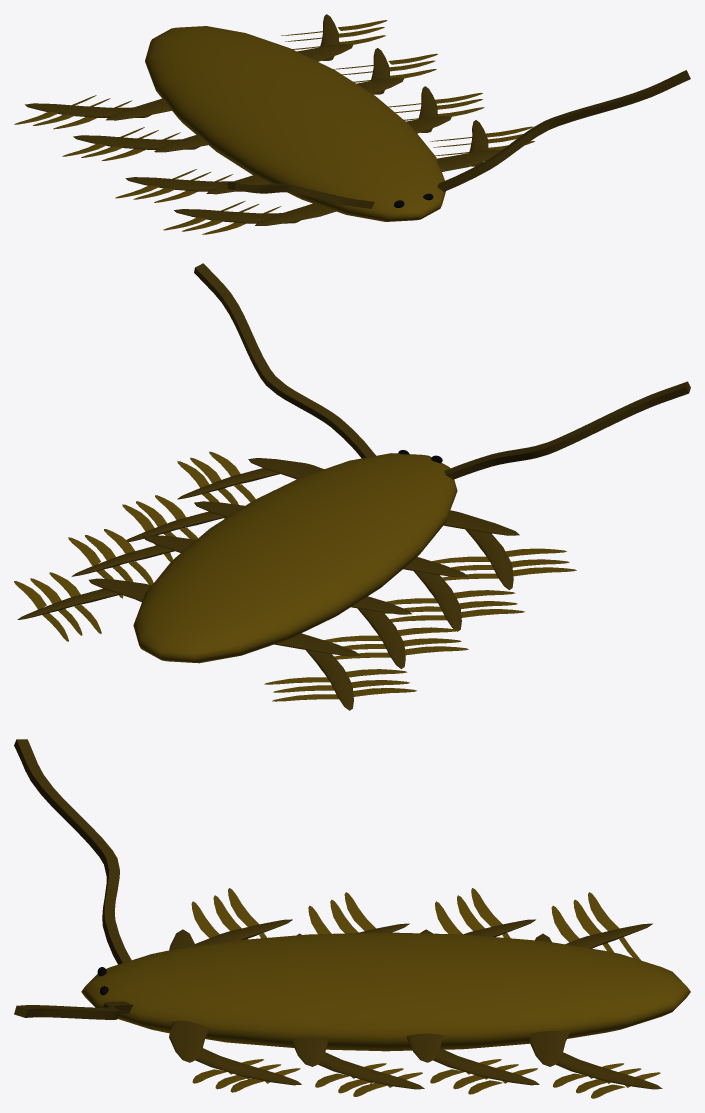
File: cockroachquestguy.fbx
3 renders of one model, top to bottom at view 1: azimuth 30°, elevation 25°; view 2: azimuth 150°, elevation 25°; view 3: azimuth 270°, elevation 25°, orthographic. The views are drawn at different scales.
Parts seen in each view (by area): view 1: group10_pasted__group_pasted__pasted__pSphere2; view 2: group10_pasted__group_pasted__pasted__pSphere2; view 3: group10_pasted__group_pasted__pasted__pSphere2.
Boxes of the visible parts, <box> form: group10_pasted__group_pasted__pasted__pSphere2: <box>14,14,690,234</box>; group10_pasted__group_pasted__pasted__pSphere2: <box>14,263,690,710</box>; group10_pasted__group_pasted__pasted__pSphere2: <box>14,739,690,1098</box>.
Size of the model in its own units: 1.11 by 0.3125 by 1.17.
